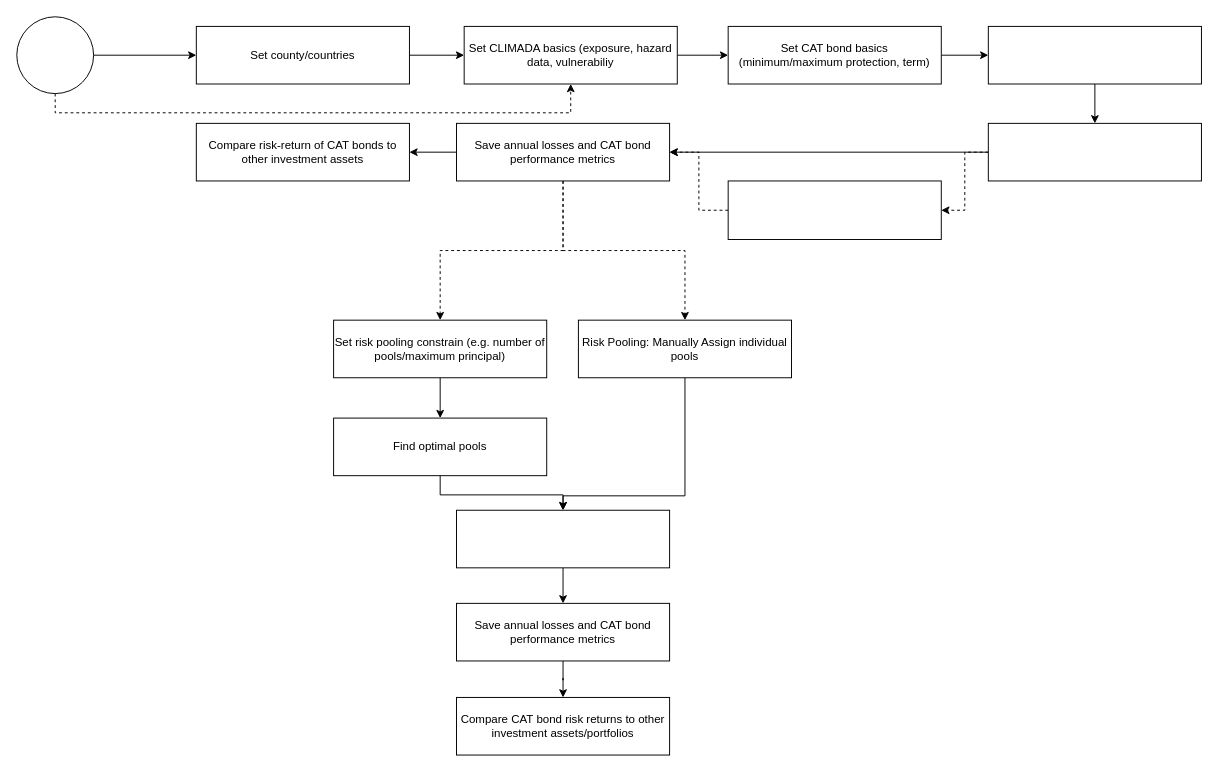
Some shapes in this 1218 by 772 pixel diagram are drawn without their labels. Each missing label, with the box of its shape:
Create multi-country CAT bonds: (456, 509, 670, 568)
Create single-country CAT bond(s): (987, 122, 1201, 181)
Set pricing basics (peak peril, target Sharpe ratio, risk-free rate): (987, 25, 1201, 84)
Test CAT bond: (727, 180, 941, 240)
User: (16, 16, 94, 94)
